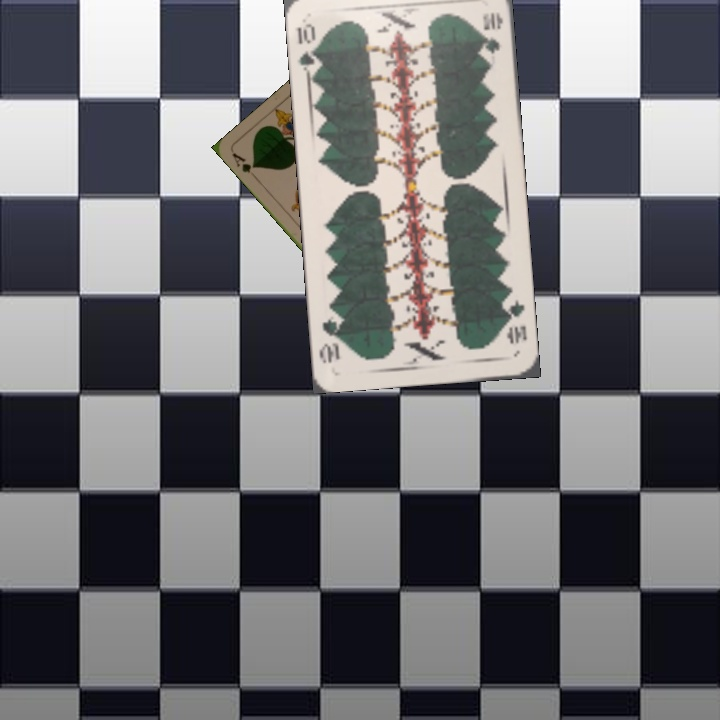G10: (293, 20, 323, 77), (500, 296, 529, 347)
GA: (228, 148, 260, 182)
